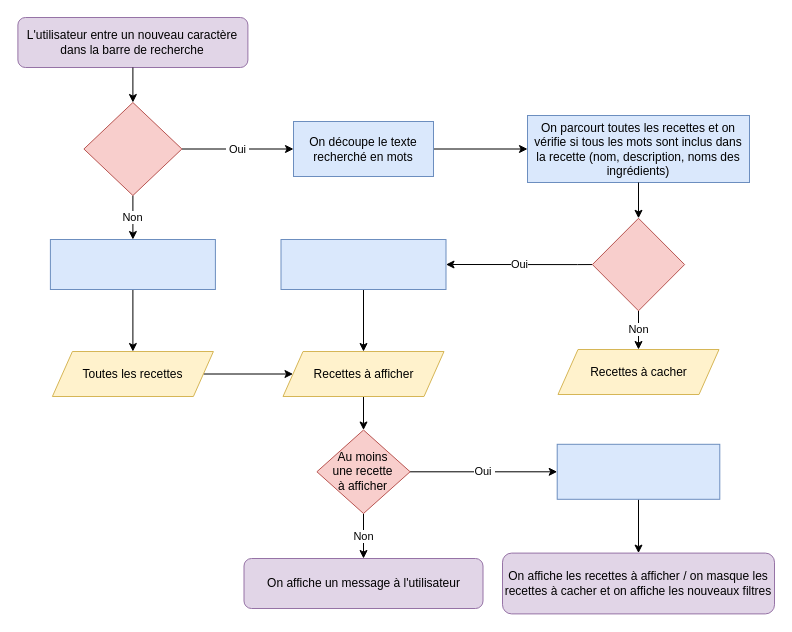
Image size: 792x632. Some labels were removed from this diagram. The centre of each missing label's shape, as x and y in pixels:
"On ajoute la recette aux recettes à afficher" belongs at pixel 363 264.
"On ajoute toutes les recettes aux recettes à afficher" belongs at pixel 132 264.
"On met à jour les filtres à partir des recettes à afficher" belongs at pixel 638 471.
"Texte supérieur à 3 caractères" belongs at pixel 132 149.
"Tous les mots sont inclus dans la recette" belongs at pixel 638 264.
